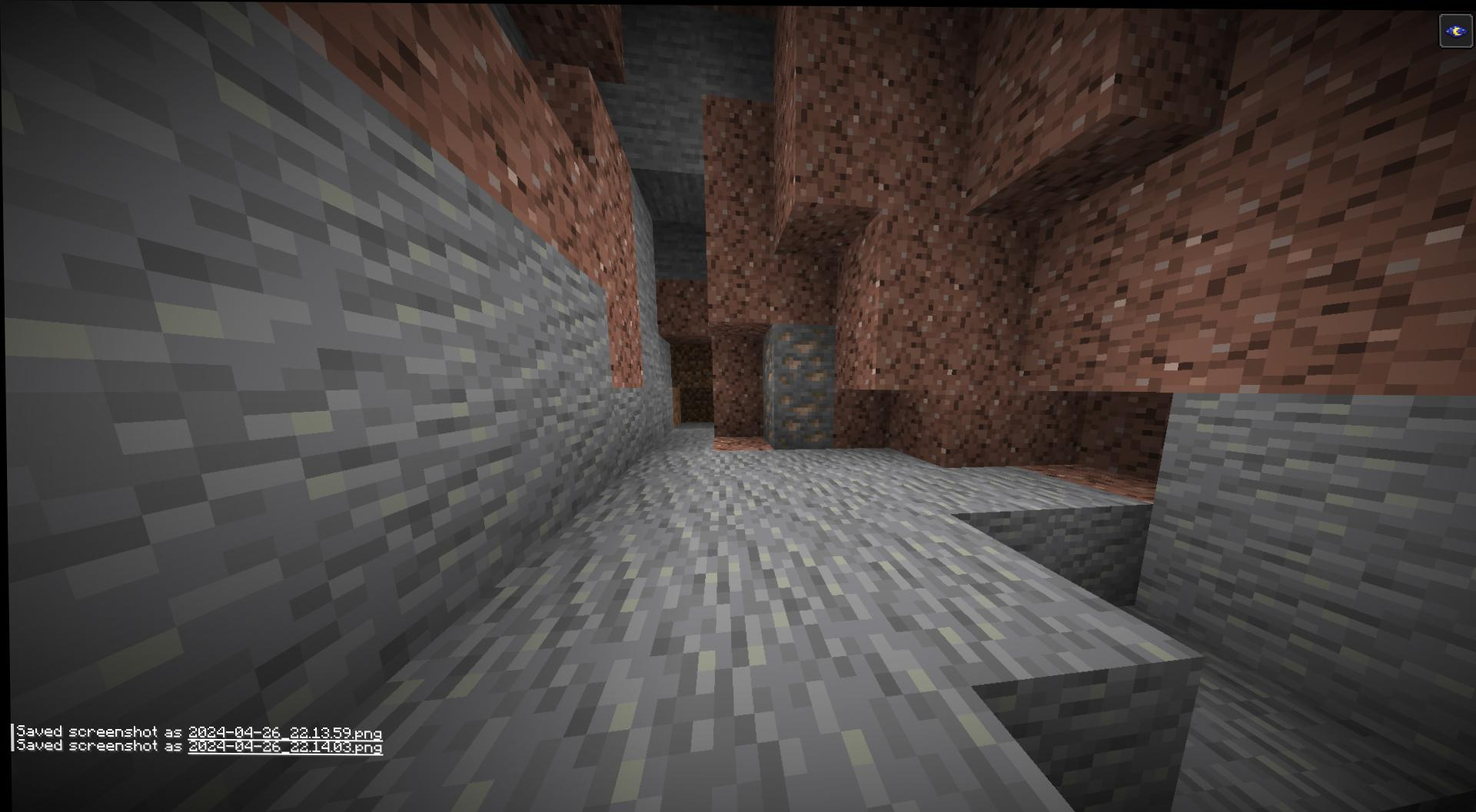iron ore: (757, 318, 832, 387), (757, 379, 830, 444)
